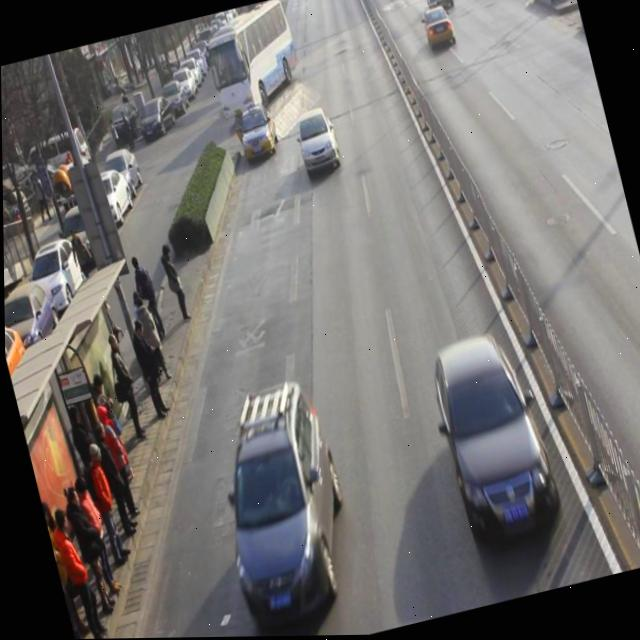car: (194, 374, 369, 638), (421, 326, 565, 551), (292, 107, 344, 178), (233, 99, 282, 163), (421, 3, 456, 53), (421, 0, 455, 14)
van: (199, 0, 305, 115)
